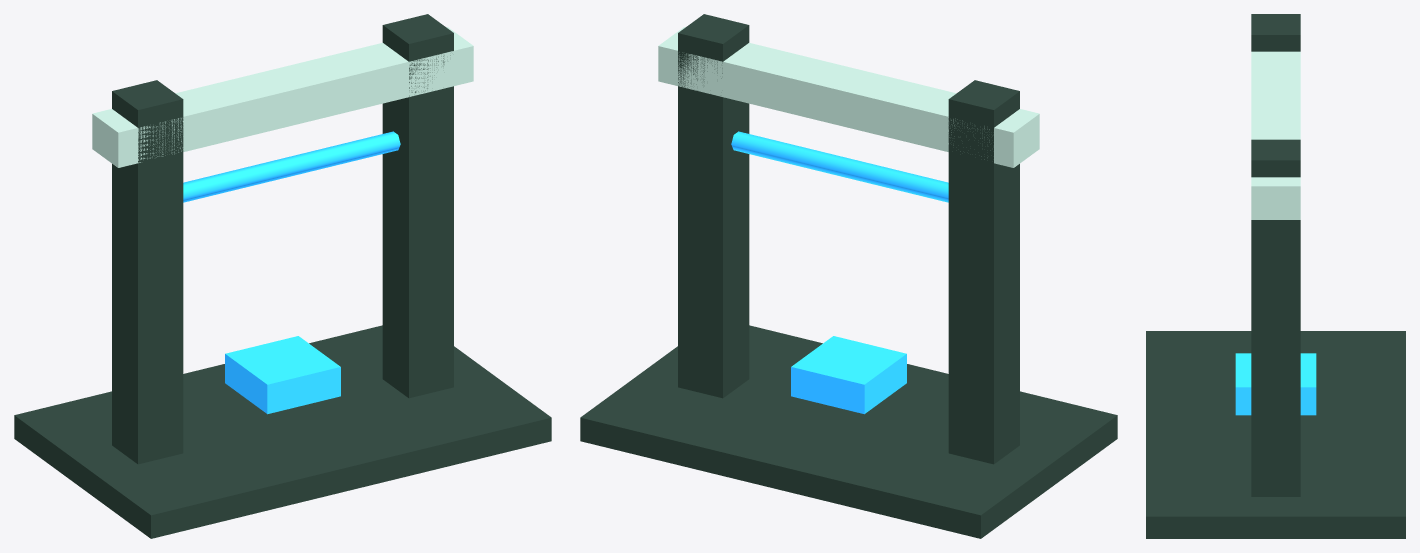
File: hvdc-interconnector.glb
3 views of the same model, side by side, from view 1: azimuth 30°, elevation 25°; view 2: azimuth 150°, elevation 25°; view 3: azimuth 270°, elevation 25° (orthographic). The views are drawn at different scales.
Parts seen in each view (by area): view 1: base-footprint, tower-left, tower-right, beam-cross, pulse-hvdc-core, pulse-power-line; view 2: base-footprint, tower-left, tower-right, beam-cross, pulse-hvdc-core, pulse-power-line; view 3: base-footprint, tower-right, beam-cross, pulse-hvdc-core, tower-left.
Part boxes in pixels (x1,y1,x2,y2): base-footprint: (14, 325, 551, 538); tower-left: (112, 80, 183, 464); tower-right: (382, 14, 453, 398); beam-cross: (92, 27, 473, 167); pulse-hvdc-core: (225, 336, 340, 414); pulse-power-line: (183, 131, 400, 202); base-footprint: (580, 325, 1117, 538); tower-left: (948, 80, 1019, 464); tower-right: (678, 14, 749, 398); beam-cross: (658, 27, 1039, 167); pulse-hvdc-core: (791, 336, 906, 414); pulse-power-line: (731, 131, 948, 202); base-footprint: (1146, 331, 1405, 538); tower-right: (1251, 139, 1300, 496); beam-cross: (1251, 51, 1300, 219); pulse-hvdc-core: (1235, 353, 1316, 415); tower-left: (1251, 14, 1300, 51).
Size of the model in its own units: 1.42 by 1.28 by 0.84.
